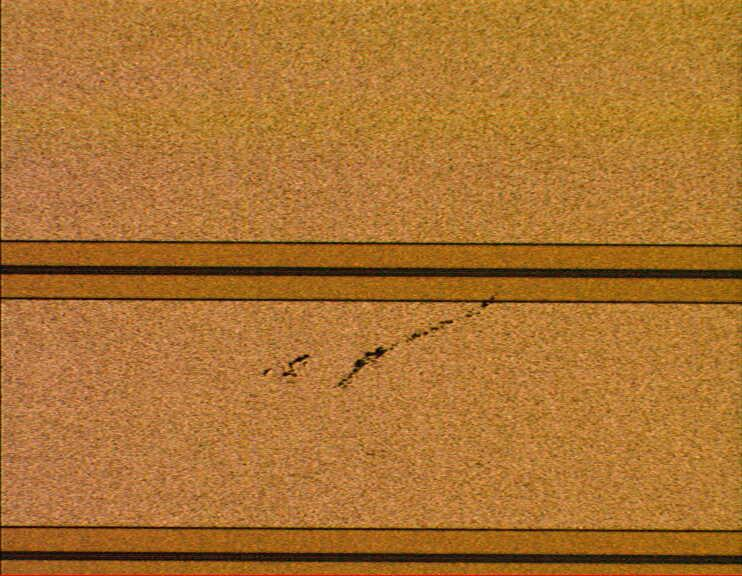SCRATCH: (248, 280, 512, 401)
